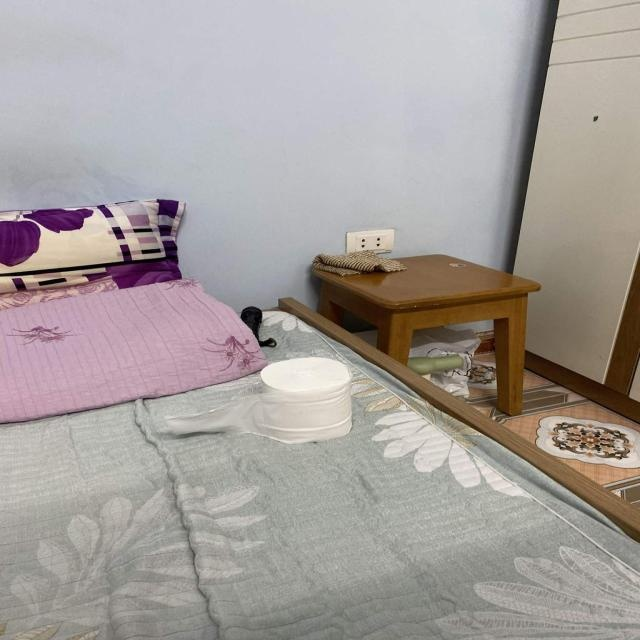outlet: (345, 229, 394, 255)
